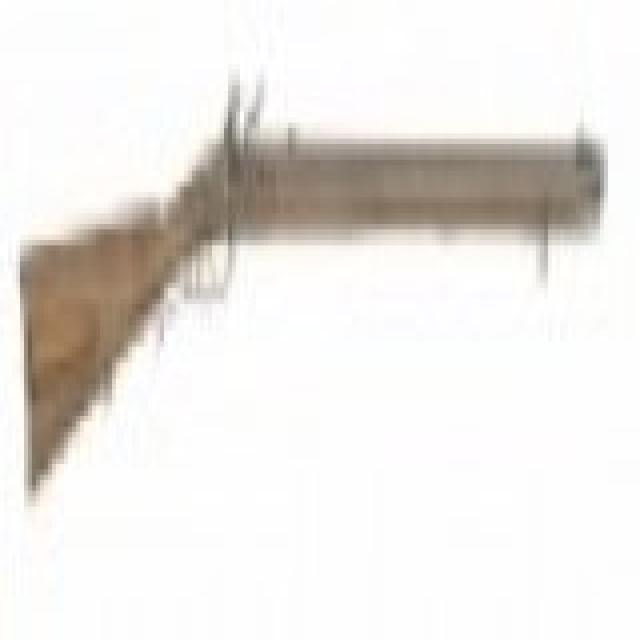Gun: (0, 75, 628, 501)
